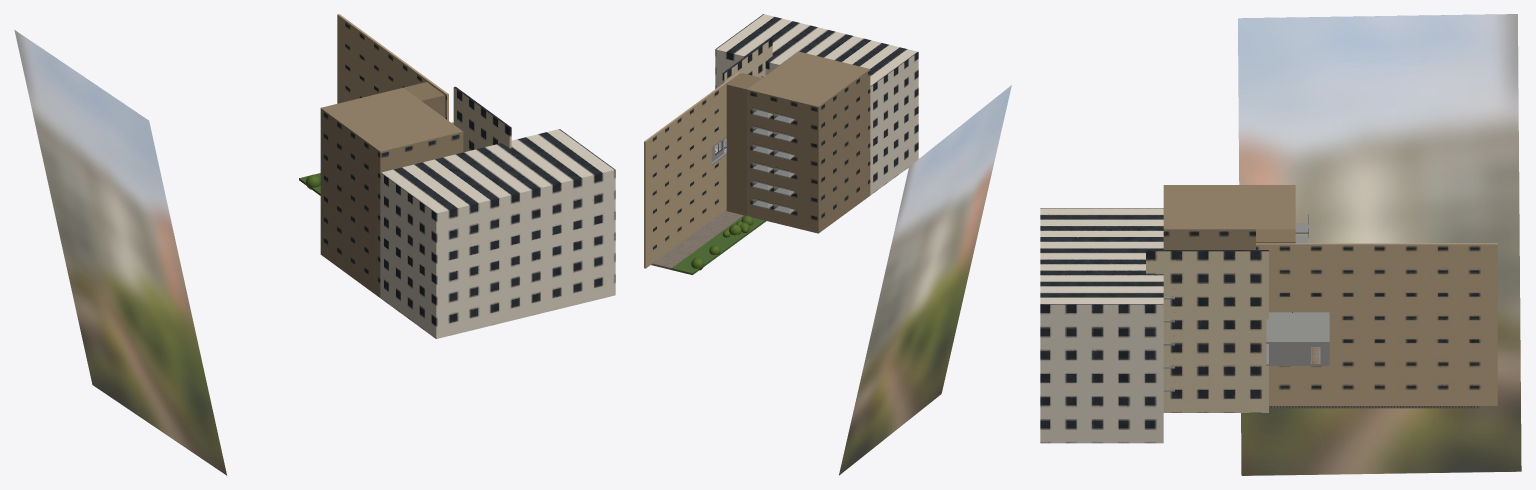
The model's file is apartment.glb.
The picture shows the model from 3 angles, left to right: view 1: azimuth 30°, elevation 25°; view 2: azimuth 150°, elevation 25°; view 3: azimuth 270°, elevation 25°; orthographic projection. The views are drawn at different scales.
Visible parts, largest first — view 1: BAKED_outside, Courtyard_backdrop; view 2: BAKED_outside, Courtyard_backdrop, Wing_north_balc_fronts; view 3: BAKED_outside, Courtyard_backdrop, BAKED_shell.
Part boxes in pixels (left/top/right/bottom): BAKED_outside: left=299, top=14, right=615, bottom=338; Courtyard_backdrop: left=14, top=30, right=226, bottom=475; BAKED_outside: left=644, top=14, right=918, bottom=274; Courtyard_backdrop: left=839, top=85, right=1011, bottom=475; Wing_north_balc_fronts: left=753, top=108, right=789, bottom=212; BAKED_outside: left=1040, top=185, right=1497, bottom=443; Courtyard_backdrop: left=1238, top=14, right=1521, bottom=475; BAKED_shell: left=1266, top=312, right=1329, bottom=365.
Bounding box in the file's own units: 55.78 × 52.06 × 54.73.
Materials: 27 (12 with a texture image).
